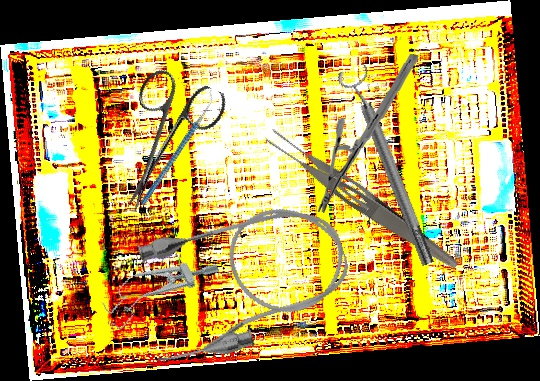Cannula: (124, 188, 363, 374)
Chopper: (112, 89, 242, 206)
Dressing Forceps: (261, 124, 466, 274)
Fixation Ring: (335, 62, 443, 271)
Iris Scissors: (94, 61, 231, 228)
Needle Holder: (317, 51, 418, 216)
Speculum: (95, 240, 224, 333)
